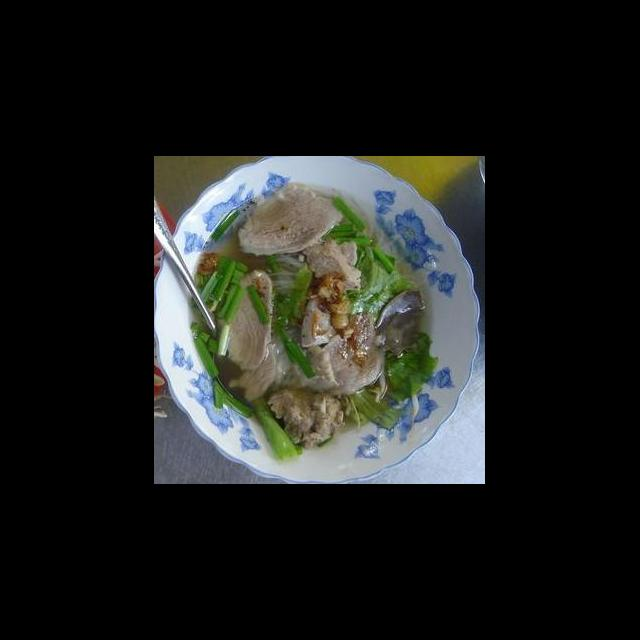banh hu tieu: (258, 247, 312, 393)
hu tieu: (165, 174, 478, 463)
thit heo: (232, 177, 348, 261), (308, 306, 386, 401), (210, 266, 276, 377), (264, 386, 352, 451), (298, 235, 366, 296), (226, 343, 288, 404)
